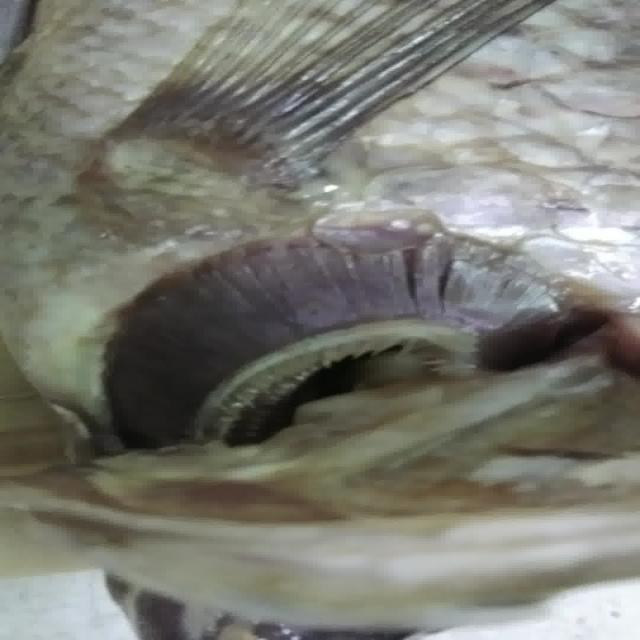Non-Fresh: (71, 221, 607, 477)
